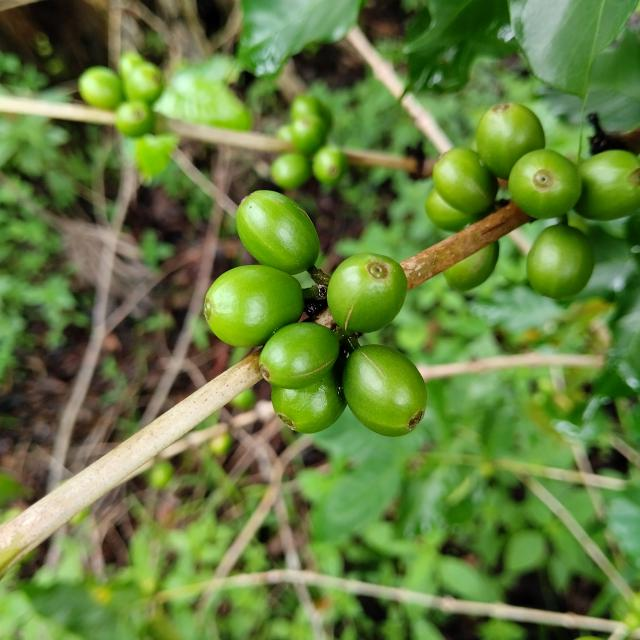green: (204, 265, 304, 348), (343, 345, 428, 437), (236, 190, 320, 275), (327, 252, 408, 333), (259, 322, 340, 390), (477, 102, 546, 179), (509, 148, 583, 219), (528, 224, 595, 300), (271, 369, 347, 434), (576, 149, 640, 220), (433, 147, 499, 214), (444, 241, 500, 291), (426, 188, 485, 232)
